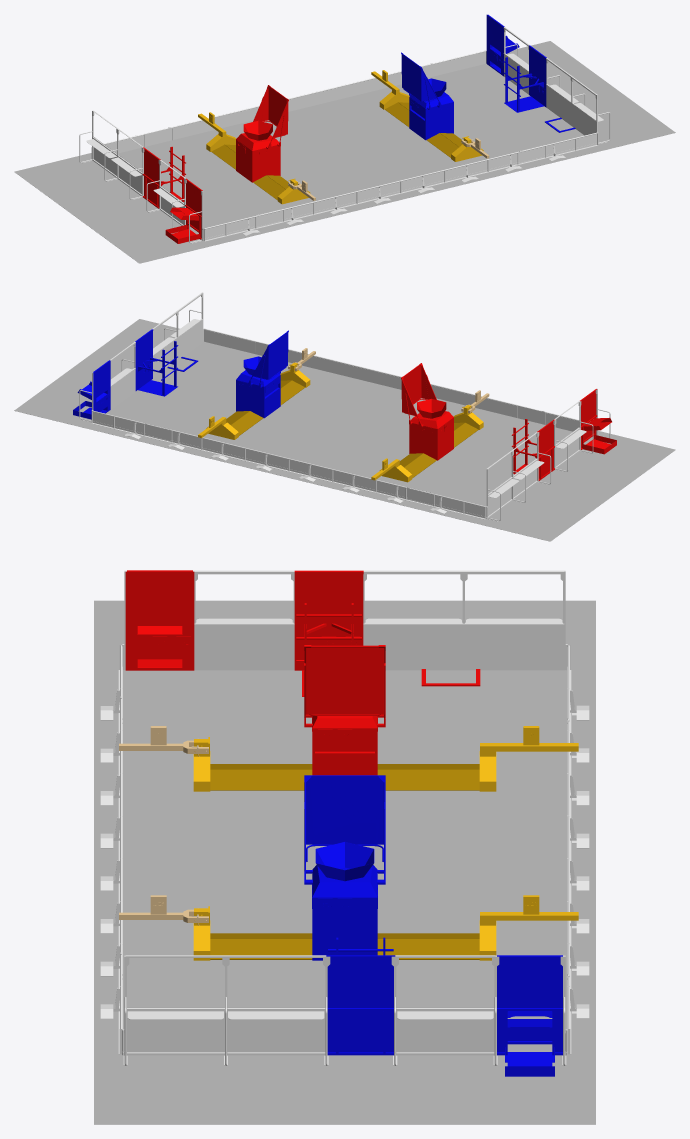
Rendered from BlockField.fbx.
3 views of the same model, one above another, from view 1: azimuth 30°, elevation 25°; view 2: azimuth 150°, elevation 25°; view 3: azimuth 270°, elevation 25° (orthographic). The views are drawn at different scales.
Visible parts, largest first — view 1: mesh1150, mesh952, mesh3180, mesh1783, mesh4184, mesh2199, mesh3387, mesh2768, mesh2050, mesh970, mesh3171, mesh538 (+9 smaller); view 2: mesh1150, mesh3182, mesh950, mesh1783, mesh4175, mesh2208, mesh3387, mesh538, mesh2050, mesh3146, mesh941, mesh1188 (+8 smaller); view 3: mesh1150, mesh3263, mesh3759, mesh4026, mesh2032, mesh245, mesh1573, mesh3446, mesh2217, mesh367, mesh1207, mesh1824 (+16 smaller).
Boxes of the visible parts, x1,y1,x2,y2 form: mesh1150: (14,41,675,263); mesh952: (172,72,401,139); mesh3180: (284,153,517,219); mesh1783: (546,85,596,135); mesh4184: (252,145,280,182); mesh2199: (425,102,453,139); mesh3387: (486,15,503,76); mesh2768: (204,132,597,229); mesh2050: (401,54,421,101); mesh970: (434,51,485,76); mesh3171: (205,145,597,241); mesh538: (104,50,485,144); mesh1150: (14,319,675,541); mesh3182: (288,350,517,417); mesh950: (172,431,405,497); mesh1783: (153,320,202,378); mesh4175: (409,423,437,460); mesh2208: (236,380,264,417); mesh3387: (93,361,110,413); mesh538: (92,410,485,507); mesh2050: (268,332,288,379); mesh3146: (204,329,255,354); mesh941: (92,423,484,519); mesh1188: (110,369,135,409); mesh1150: (94,600,595,1124); mesh3263: (363,625,564,670); mesh3759: (125,571,194,670); mesh4026: (306,647,383,714); mesh2032: (306,777,383,844); mesh245: (194,625,294,670); mesh1573: (327,956,393,1052); mesh3446: (497,956,562,1052); mesh2217: (312,897,377,960); mesh367: (294,574,363,624); mesh1207: (396,1011,494,1052); mesh1824: (227,1011,325,1052).
Size of the model in its own units: 2256 by 306 by 914.
